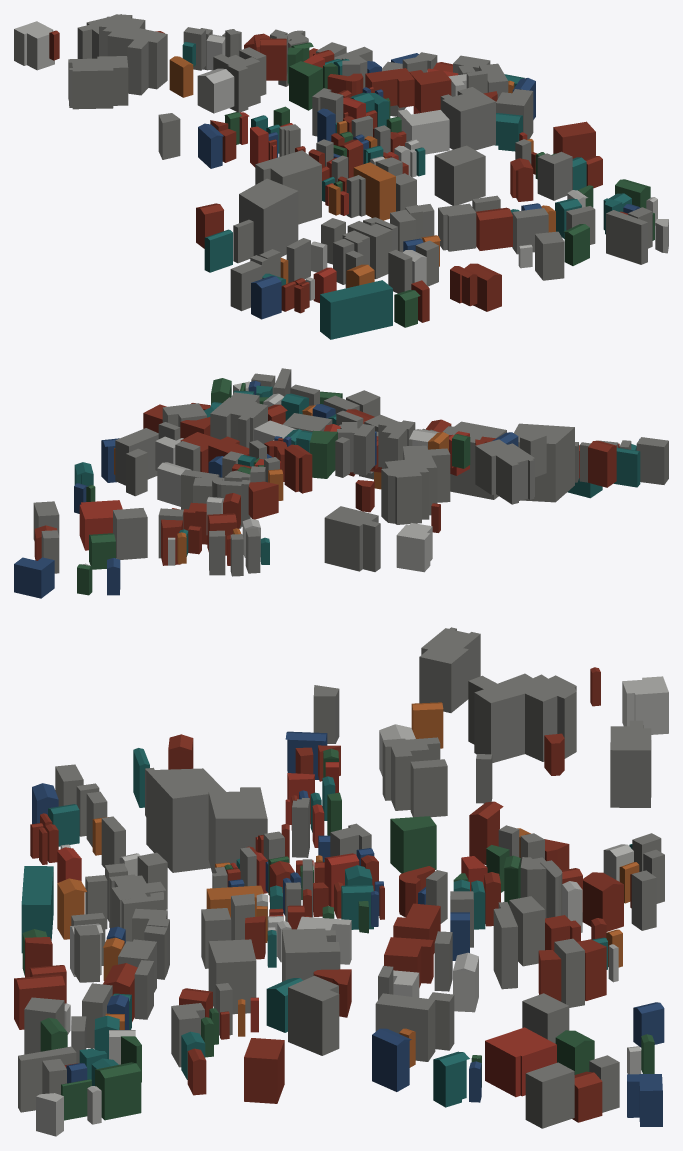
Rendered from near-17-109439-59476.c2aec579.glb.
The picture shows the model from 3 angles, top to bottom: view 1: azimuth 30°, elevation 25°; view 2: azimuth 150°, elevation 25°; view 3: azimuth 270°, elevation 25°; orthographic projection. The views are drawn at different scales.
Size of the model in its own units: 319 by 120 by 305.
